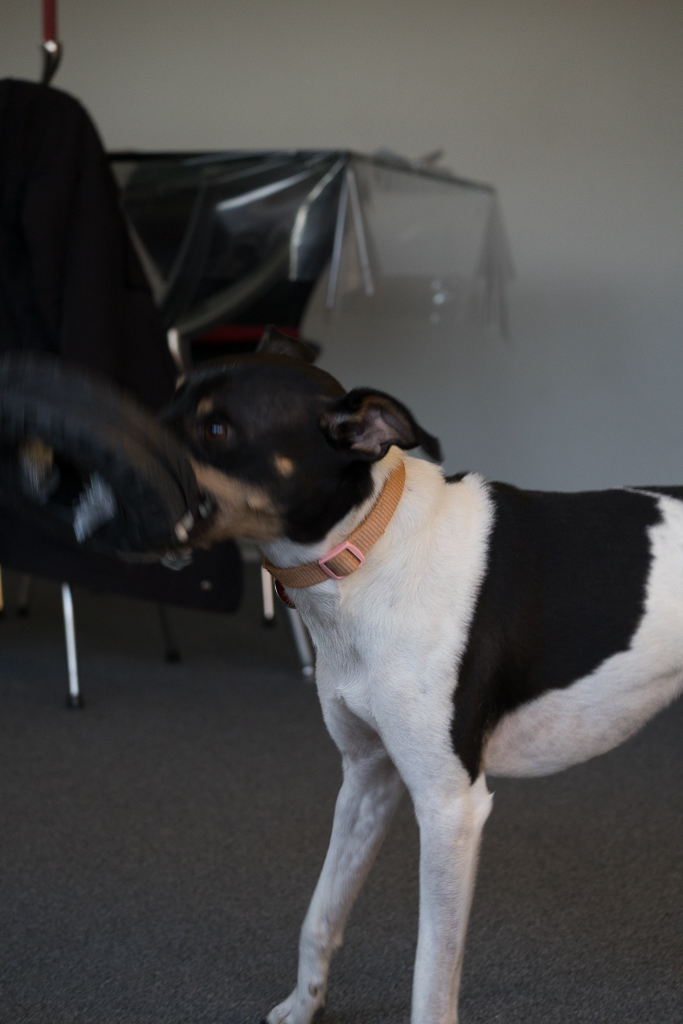Dog: (91, 312, 683, 1024)
